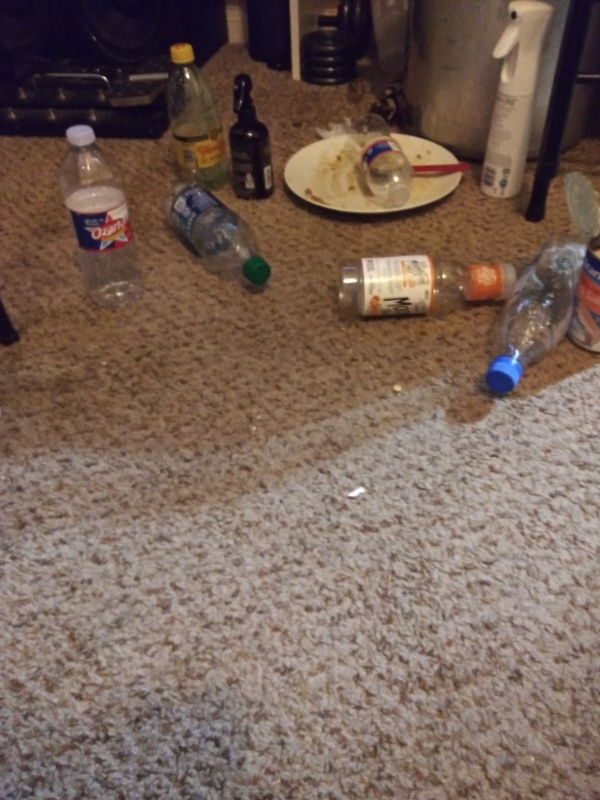bottle: (483, 233, 592, 393), (54, 120, 144, 310), (334, 246, 522, 323), (153, 179, 280, 291), (164, 40, 235, 190), (354, 117, 416, 209)
